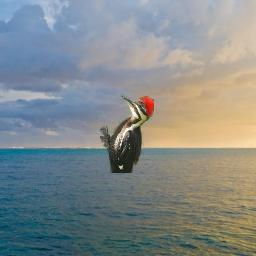Woodpecker: (100, 95, 154, 174)
